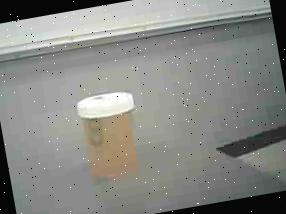Bottle B: (67, 84, 156, 190)
